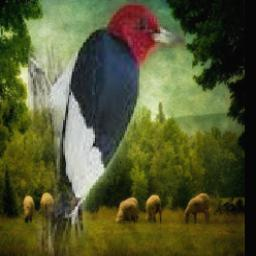Woodpecker: (27, 2, 185, 256)
